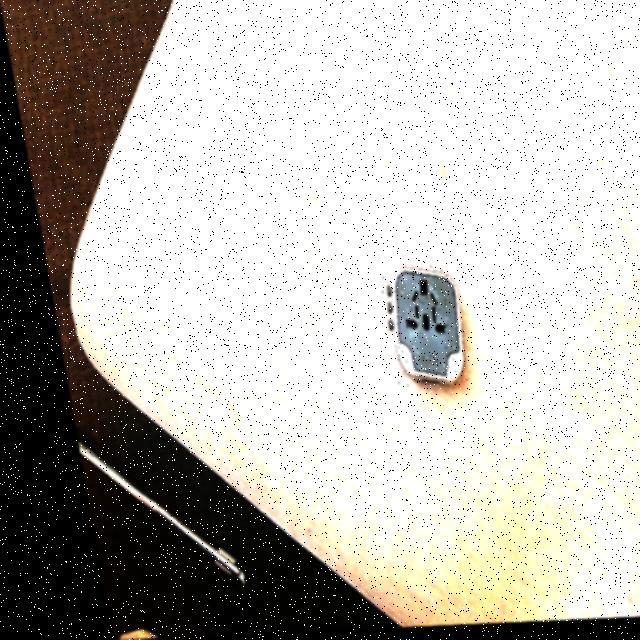adapter: (367, 267, 458, 390)
